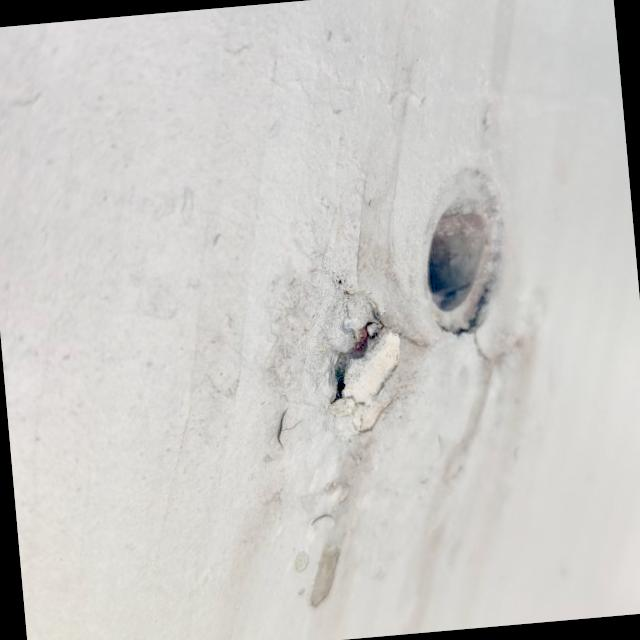crack: (283, 270, 447, 457)
